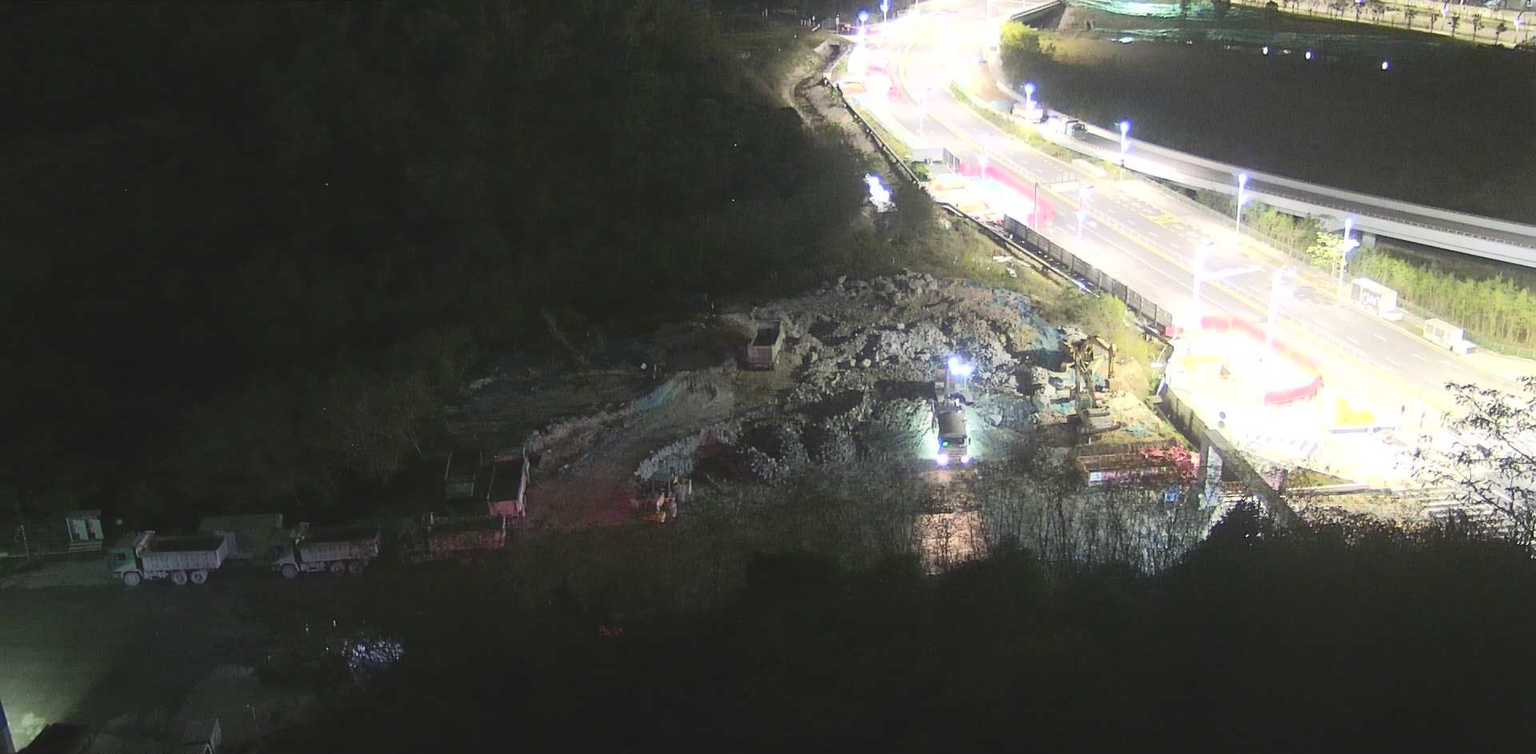过爆灯光: (1164, 303, 1432, 489), (862, 173, 890, 203), (948, 357, 971, 375)
